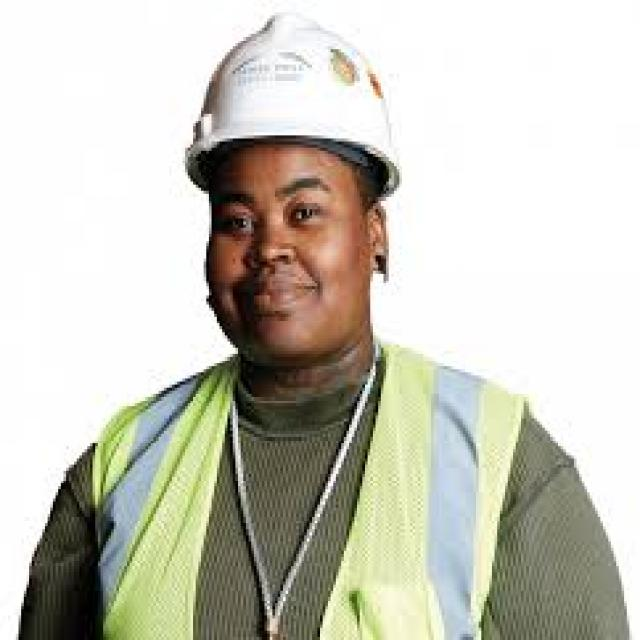Reflective-Jacket: (74, 351, 545, 637)
Safety-Helmet: (180, 9, 410, 194)
